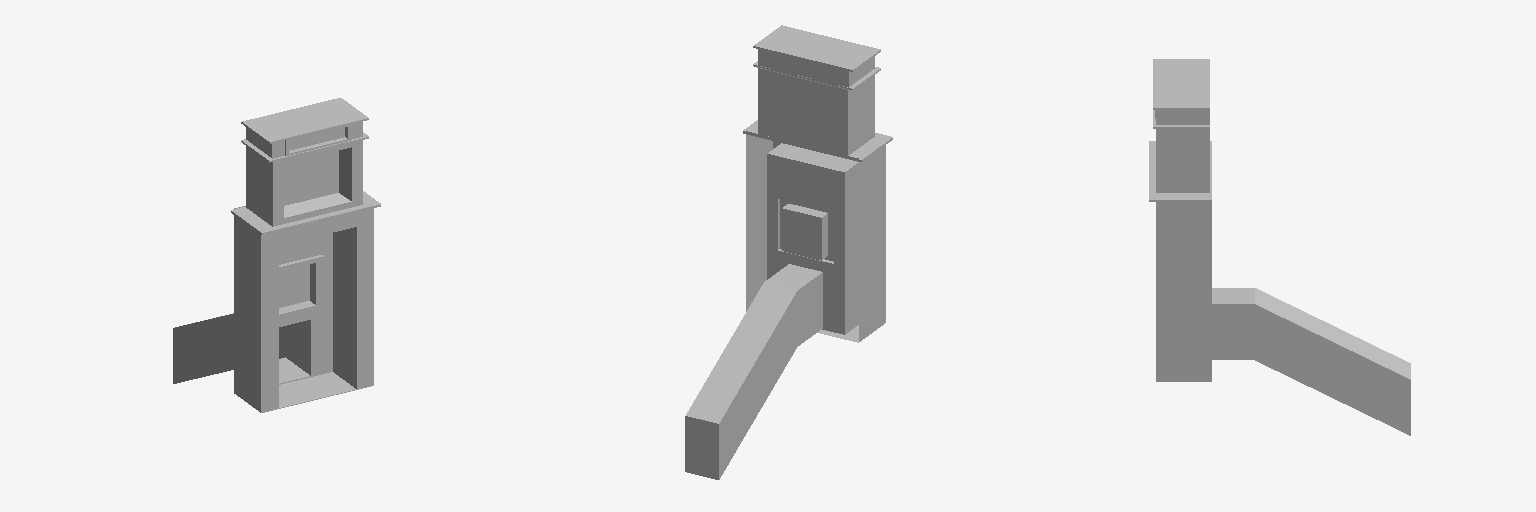
File: SietchTabrFrontR.obj
3 renders of one model, left to right at view 1: azimuth 30°, elevation 25°; view 2: azimuth 150°, elevation 25°; view 3: azimuth 270°, elevation 25°, orthographic.
Parts seen in each view (by area): view 1: Cube.024_Cube.032; view 2: Cube.024_Cube.032; view 3: Cube.024_Cube.032.
Part boxes in pixels (x1,y1,x2,y2): Cube.024_Cube.032: (173, 98, 380, 412); Cube.024_Cube.032: (685, 25, 892, 479); Cube.024_Cube.032: (1149, 59, 1410, 435).
Size of the model in its own units: 18.11 by 49.92 by 34.52.